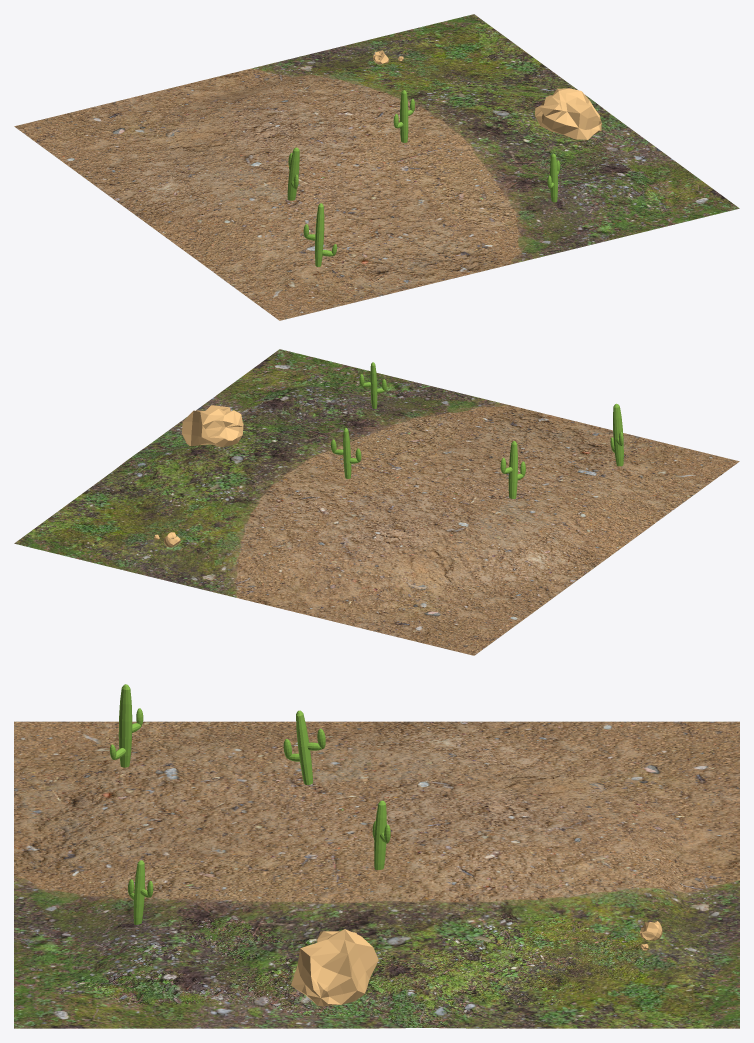
Rendered from SFSF.fbx.
3 views of the same model, one above another, from view 1: azimuth 30°, elevation 25°; view 2: azimuth 150°, elevation 25°; view 3: azimuth 270°, elevation 25° (orthographic). The views are drawn at different scales.
Visible parts, largest first — view 1: Plane, group1446250878, group1910377098.001, group1305359395, group809628526; view 2: Plane, group1446250878, group1305359395, group1910377098.001, group809628526; view 3: Plane, group1446250878, group1305359395, group809628526, group1910377098.001, group1910377098.
Boxes of the visible parts, x1,y1,x2,y2 form: Plane: [14, 14, 739, 320]; group1446250878: [535, 88, 601, 139]; group1910377098.001: [393, 90, 414, 142]; group1305359395: [287, 147, 299, 200]; group809628526: [315, 203, 324, 266]; Plane: [14, 349, 739, 655]; group1446250878: [182, 405, 243, 446]; group1305359395: [500, 441, 525, 498]; group1910377098.001: [331, 428, 361, 478]; group809628526: [613, 403, 623, 466]; Plane: [14, 721, 739, 1028]; group1446250878: [291, 929, 378, 1006]; group1305359395: [283, 710, 325, 784]; group809628526: [118, 684, 132, 767]; group1910377098.001: [372, 800, 390, 869]; group1910377098: [128, 860, 153, 924].
Bounding box in the file's own units: 500 × 74.83 × 500.
